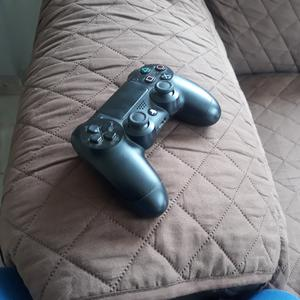controller: (72, 64, 221, 218)
